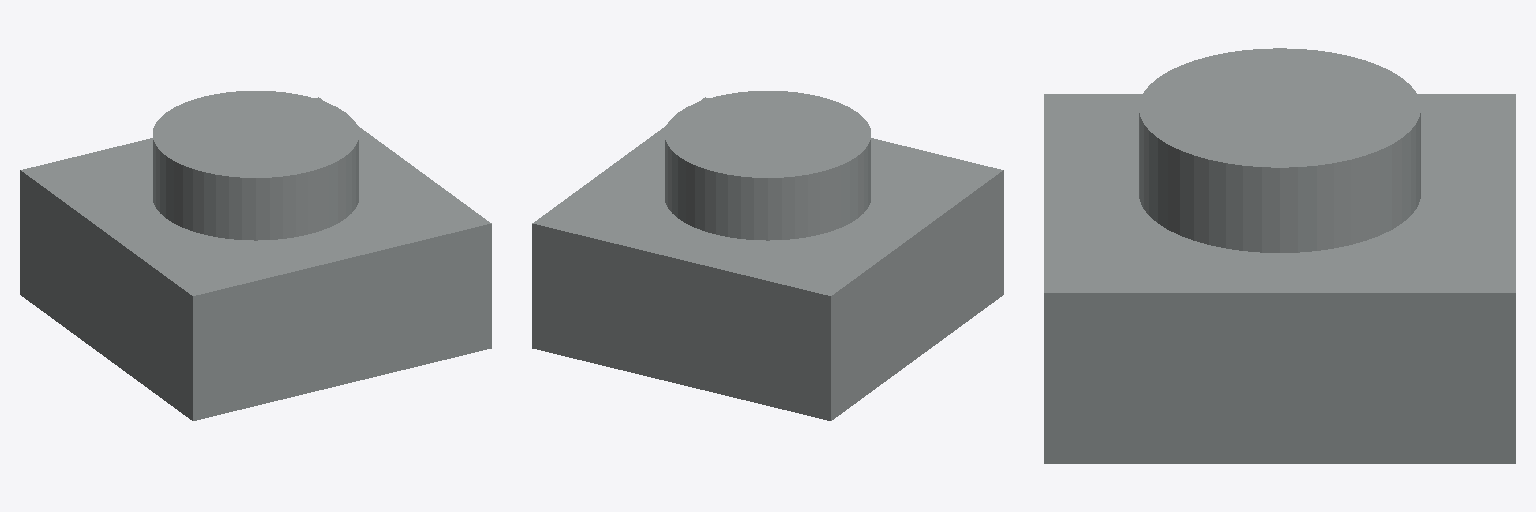
URDF robot description (3024__light_bluish_gray):
<?xml version="1.0"?>
<robot name="3024__light_bluish_gray">
  <link name="3024__light_bluish_gray">
    <inertial>
      <origin xyz="0.000000 -0.000000 -0.001063" rpy="0 0 0"/>
      <mass value="0.000282"/>
      <inertia ixx="1.850191840e-09" ixy="-0.000000000e+00" ixz="-8.669581348e-27" iyy="1.850191840e-09" iyz="5.288950594e-26" izz="2.788847423e-09"/>
    </inertial>
    <visual>
      <geometry>
        <mesh filename="../meshes/visual/3024.obj" scale="1 1 1"/>
      </geometry>
      <material name="3024__light_bluish_gray_color">
        <color rgba="0.630 0.650 0.650 1.000"/>
      </material>
    </visual>
    <collision>
      <geometry>
        <mesh filename="../meshes/collision/3024_hull.obj" scale="1 1 1"/>
      </geometry>
    </collision>
  </link>
</robot>

--- Render facts (derived) ---
3 views of the same robot in one strip: view 1: azimuth 30°, elevation 25°; view 2: azimuth 150°, elevation 25°; view 3: azimuth 270°, elevation 25° (orthographic).
Model 3024__light_bluish_gray with 1 links and 0 joints (none), rooted at 3024__light_bluish_gray, posed all joints at 0.
Links seen in each view (by area): view 1: 3024__light_bluish_gray; view 2: 3024__light_bluish_gray; view 3: 3024__light_bluish_gray.
Boxes of the visible links, x1,y1,x2,y2 form: 3024__light_bluish_gray: (20,91,491,420); 3024__light_bluish_gray: (532,91,1003,420); 3024__light_bluish_gray: (1044,48,1515,463).
Bounding box of the posed robot: 0.008 × 0.008 × 0.0048 m (x, y, z).
1 mesh visuals loaded from 1 distinct referenced files (1 OBJ).
